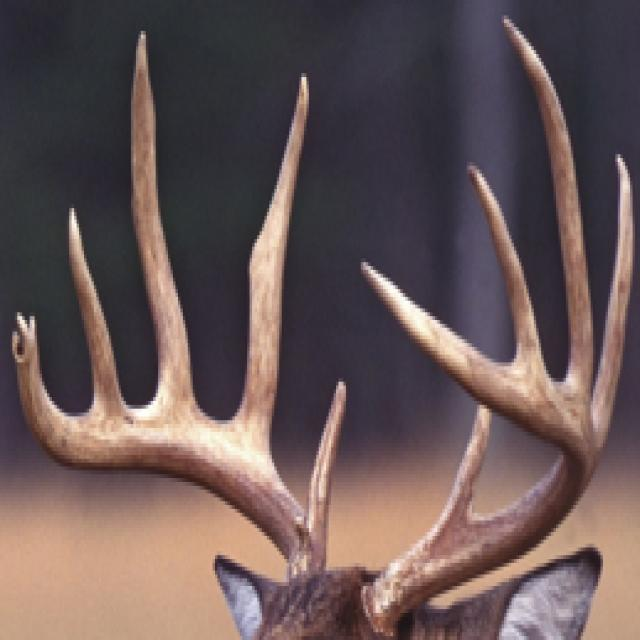L-F: (360, 255, 597, 639)
L-G1: (437, 408, 491, 526)
L-G2: (592, 151, 635, 465)
L-G3: (500, 14, 593, 409)
L-G4: (465, 160, 549, 377)
R-F: (10, 307, 327, 583)
R-G1: (306, 377, 348, 550)
R-G2: (233, 70, 309, 458)
R-G3: (129, 29, 199, 410)
R-G4: (68, 201, 127, 412)
